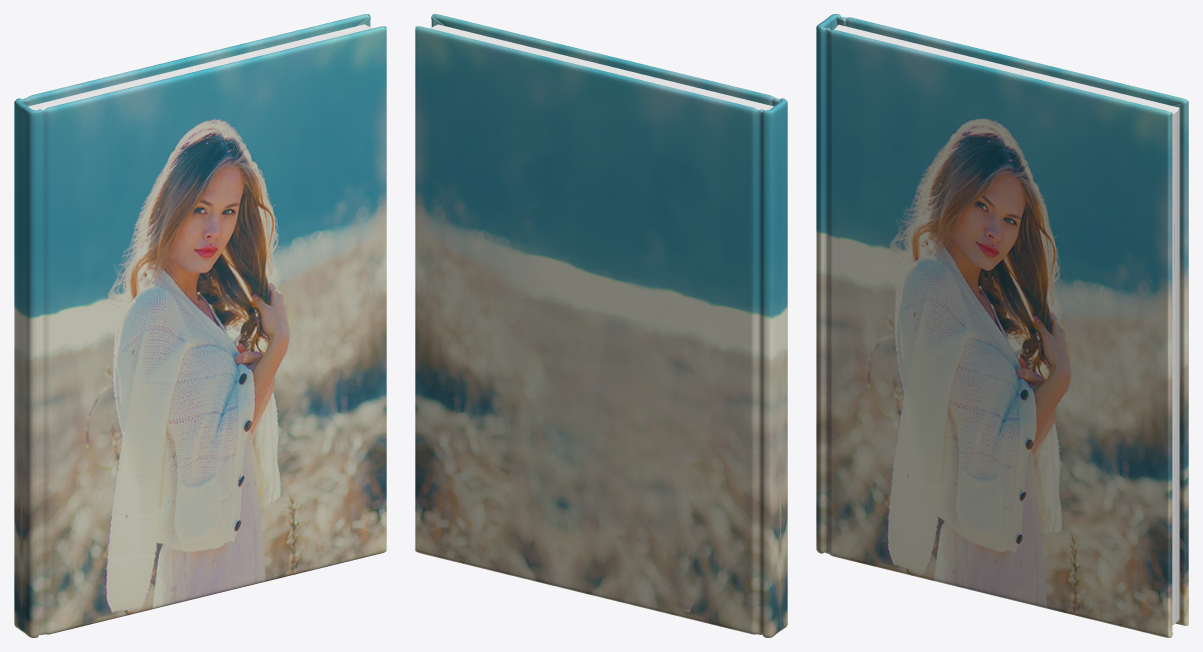
File: book.gltf
3 views of the same model, side by side, from view 1: azimuth 30°, elevation 25°; view 2: azimuth 150°, elevation 25°; view 3: azimuth 330°, elevation 25° (orthographic).
Parts seen in each view (by area): view 1: book_01; view 2: book_01; view 3: book_01.
Part boxes in pixels (<box>): book_01: <box>14,14,386,637</box>; book_01: <box>415,14,787,637</box>; book_01: <box>816,14,1188,637</box>.
Bounding box in the file's own units: 1.13 × 1.6 × 0.1128.
1 material, 1 textured.
